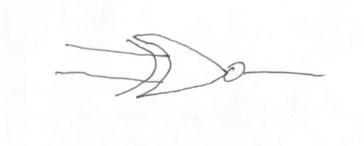XNOR: (118, 24, 258, 105)
